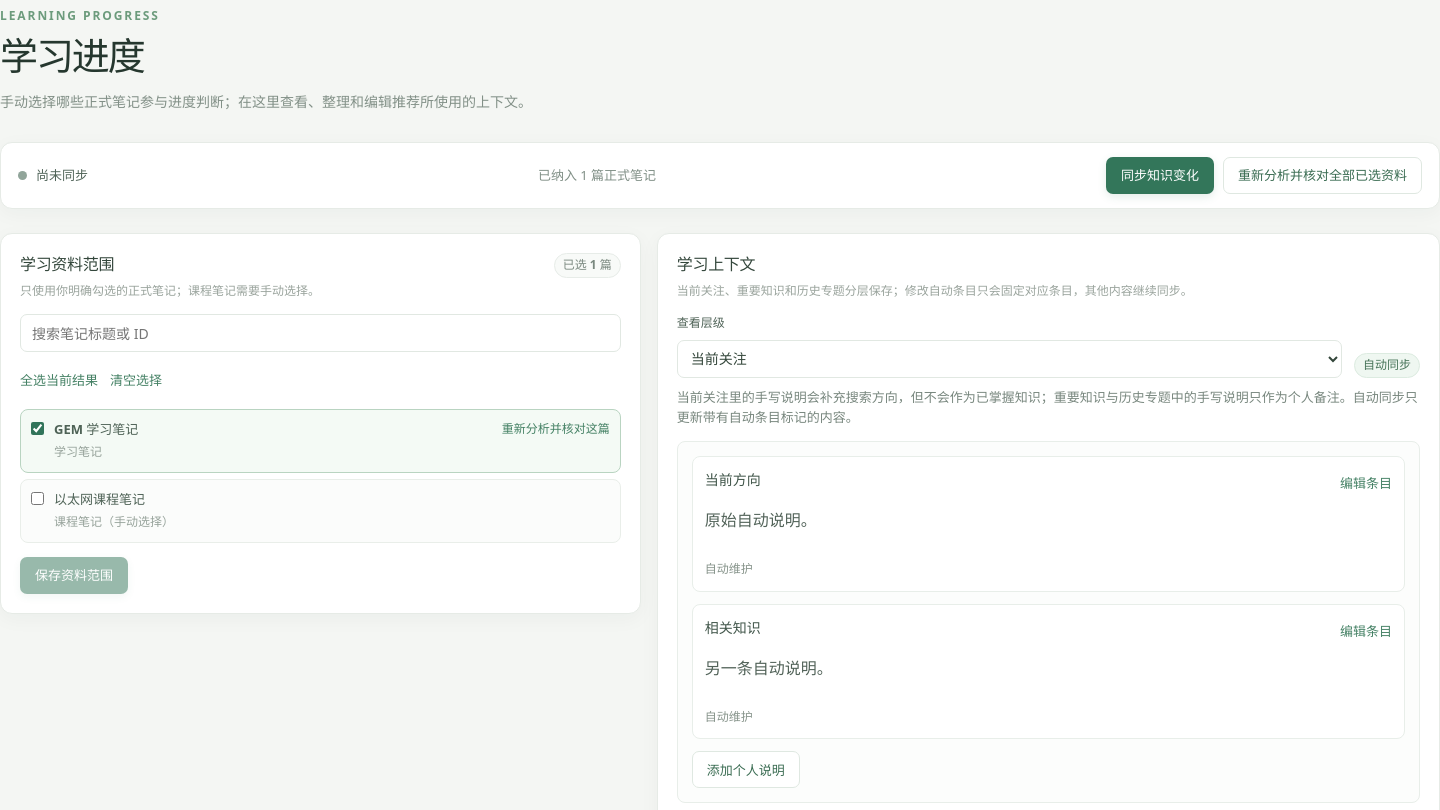
Test case: 学习进度上下文 page › shows the ID when an over-budget entry is absent from the current list
Click the button "同步知识变化" at (1160, 176), box [1106,157,1214,194]
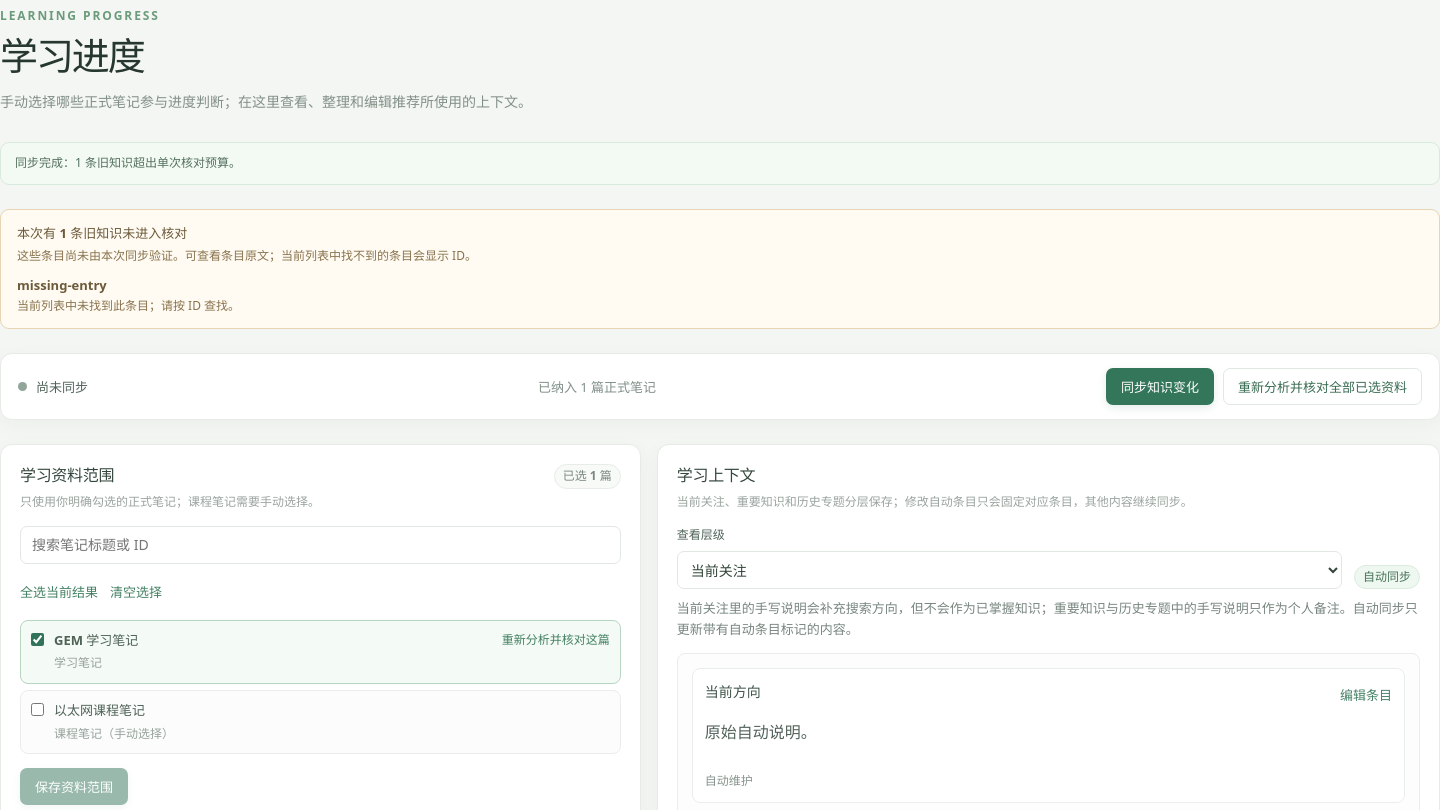
Expected: the text "missing-entry" is shown, [17,275,107,295]
Expected: the text "当前列表中未找到此条目；请按 ID 查找。" is shown, [17,297,240,316]
